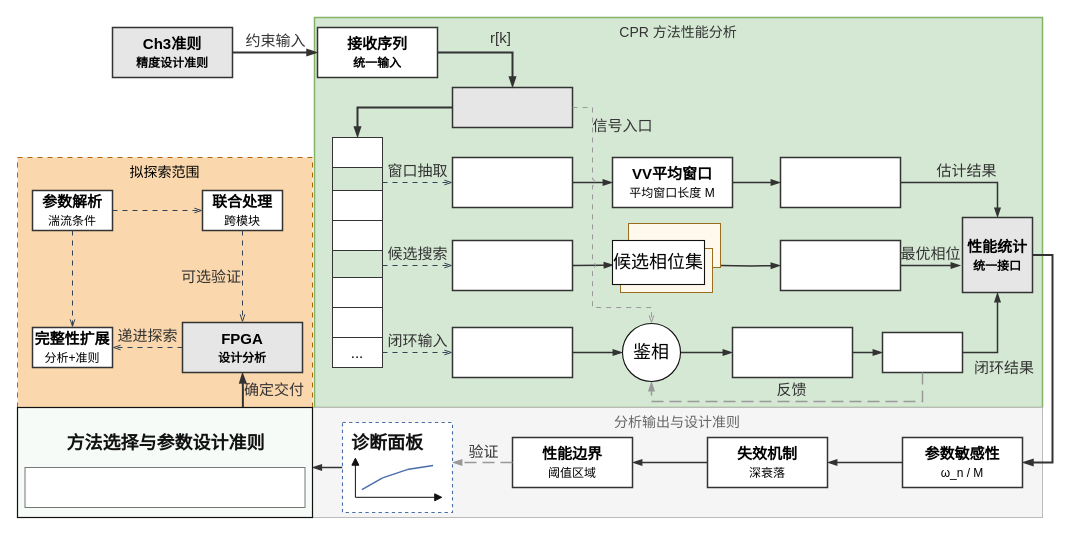
Image size: 1079x536. Some labels were removed from this diagram. The shapes that lost their labels are listed below. From the top down, each one's centre as x and y in pixels, then its label:
At point 512,107: "FOE 频偏估计与补偿".
At point 512,182: "VV前馈 平均窗口 M".
At point 840,182: "M次幂 消调制".
At point 512,265: "BPS搜索 步长 / 计算复杂度".
At point 840,265: "度量矩阵 最小距离".
At point 512,352: "DPLL闭环 ω_n / 稳定边界".
At point 792,352: "环路滤波 带宽".
At point 922,352: "NCO 相位更新".
At point 164,487: "湍流条件 | 方法 | 参数 弱 / 中 / 强".
